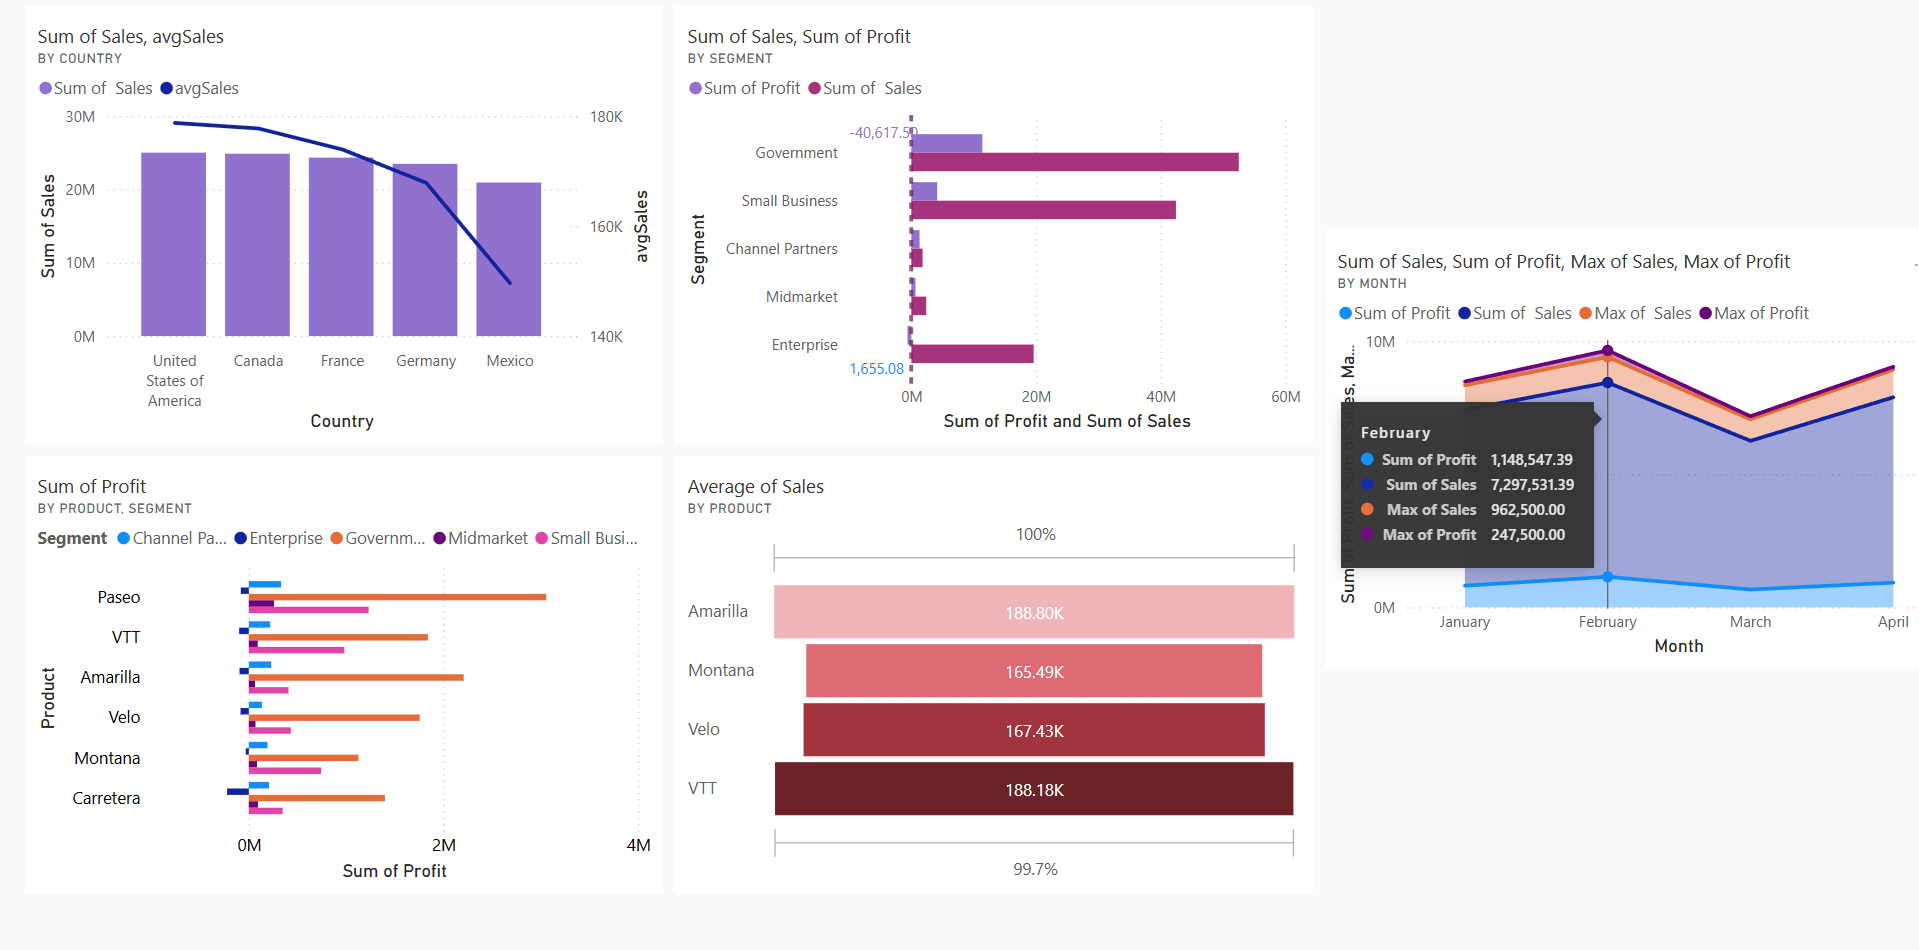

This screenshot's page, from the dashboard's own definition file:
{"tool":"powerbi","page":{"name":"Sales&Profit","canvas":[1280,720],"ordinal":0},"visuals":[{"type":"textbox","box":[0,0,1280.3,78.3],"z":0},{"type":"lineClusteredColumnComboChart","fields":{"Category":["financials.Country"],"Y":["Sum(financials. Sales)"],"Y2":["financials.avgSales"]},"box":[0,77.8,596.2,314.5],"z":1000},{"type":"stackedAreaChart","fields":{"Category":["financials.Date.Variation.Date Hierarchy.Month"],"Y":["Sum(financials.Profit)","Sum(financials. Sales)","Max(financials. Sales)","Max(financials.Profit)"]},"box":[0,412.5,606.4,307.7],"z":2000},{"type":"funnel","fields":{"Category":["financials.Product"],"Y":["Avg(financials. Sales)"]},"box":[629.8,78.3,612.6,281.3],"z":3000},{"type":"clusteredBarChart","fields":{"Category":["financials.Segment"],"Y":["Sum(financials.Profit)","Sum(financials. Sales)"]},"box":[630.1,359.6,612,360.7],"z":4000}]}

Visuals, with their boxes on the page's 1280x720 design canvas (x1, y1, x2, y2). These are canvas units, not pixel positions in the 1919x950 screenshot, which may show the page scaled, cropped or inside an application window:
textbox: 0, 0, 1280, 78
lineClusteredColumnComboChart - financials.Country x Sum(financials. Sales): 0, 78, 596, 392
stackedAreaChart - financials.Date.Variation.Date Hierarchy.Month x Sum(financials.Profit): 0, 412, 606, 720
funnel - financials.Product x Avg(financials. Sales): 630, 78, 1242, 360
clusteredBarChart - financials.Segment x Sum(financials.Profit): 630, 360, 1242, 720
